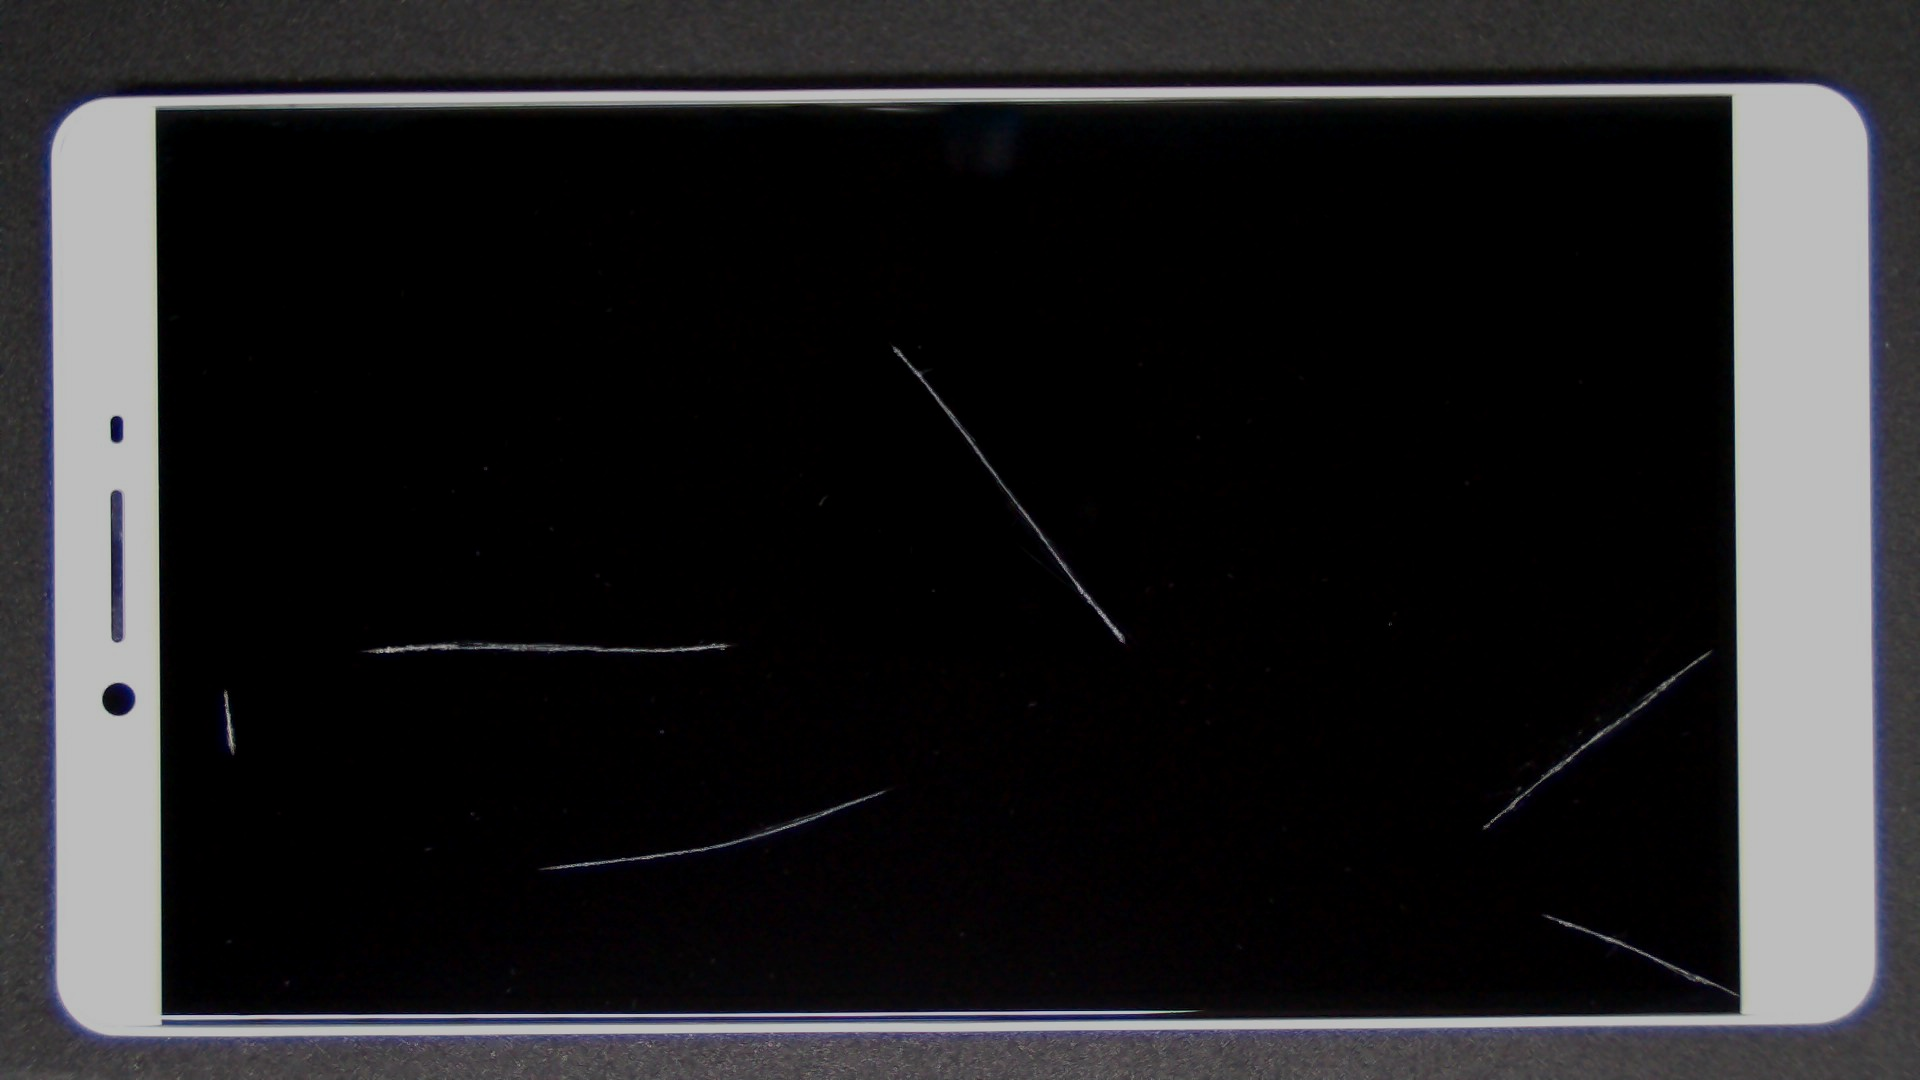oil: (773, 456, 1920, 1080), (856, 323, 1920, 973), (442, 394, 1324, 1080), (446, 170, 1336, 513), (222, 319, 662, 960), (113, 343, 338, 1033)
